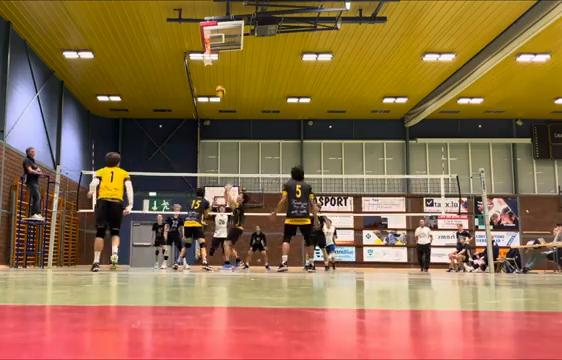Player: (88, 152, 132, 271), (271, 166, 317, 271), (181, 188, 211, 270), (161, 204, 183, 268), (244, 226, 269, 270), (209, 206, 228, 260), (311, 215, 328, 270), (209, 206, 228, 255), (322, 218, 336, 270), (152, 214, 164, 268)
Set: (220, 180, 246, 275)
ball: (215, 86, 225, 99)
